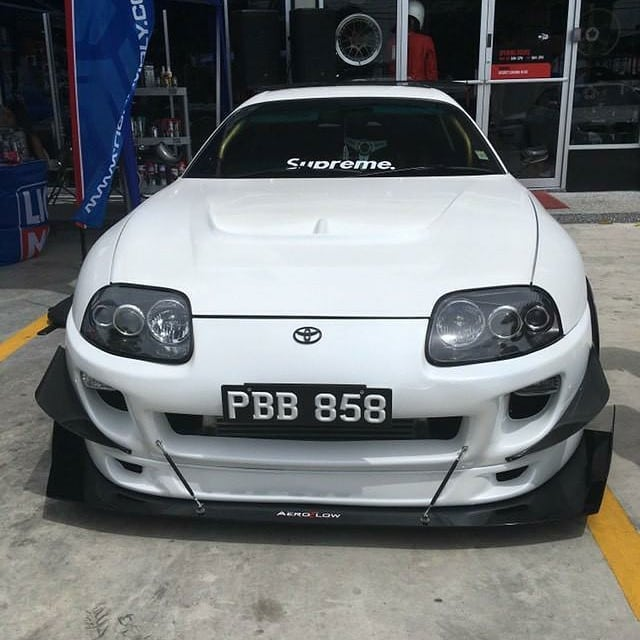License-Plate: (221, 387, 391, 425)
